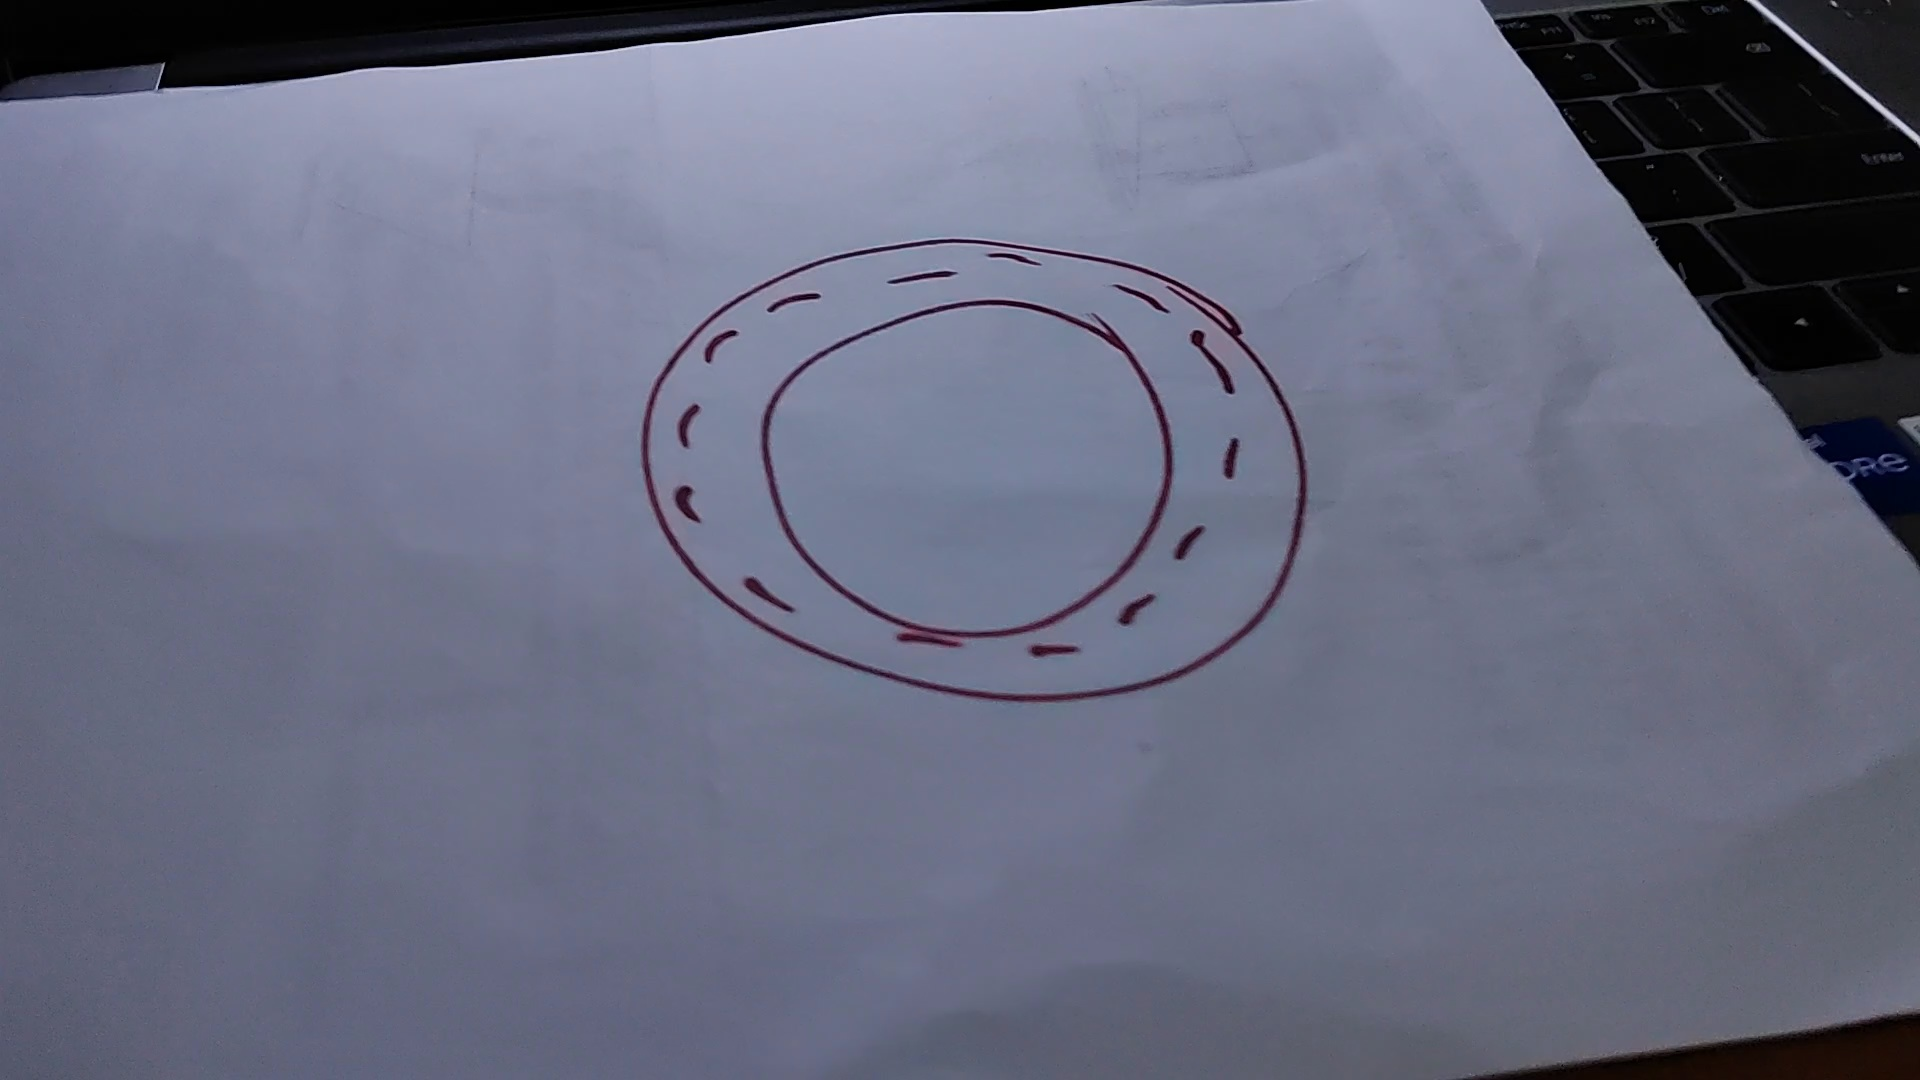circle: (644, 241, 1313, 705)
